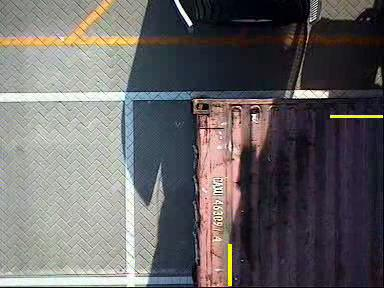groundmarker_2: (197, 155, 239, 215)
